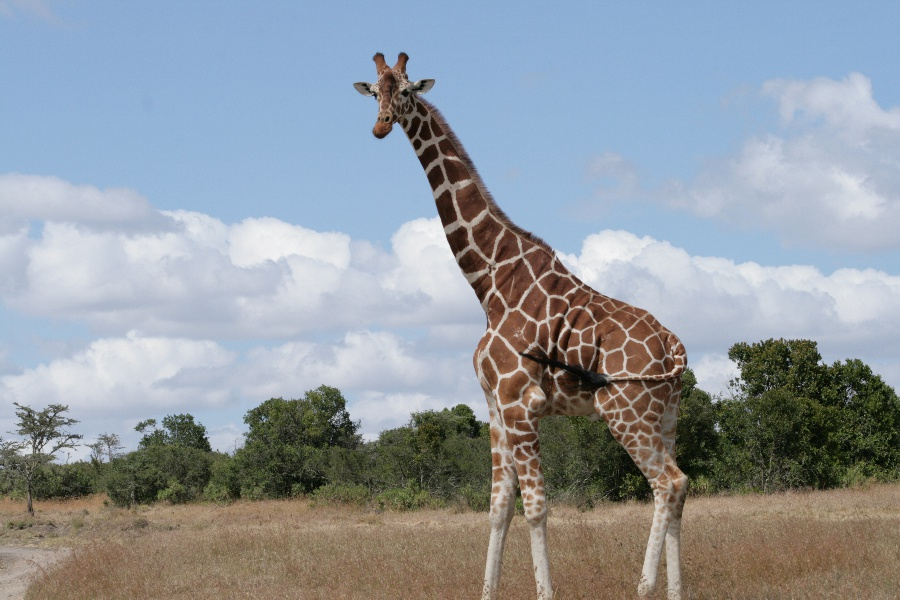giraffe: (347, 40, 706, 597)
